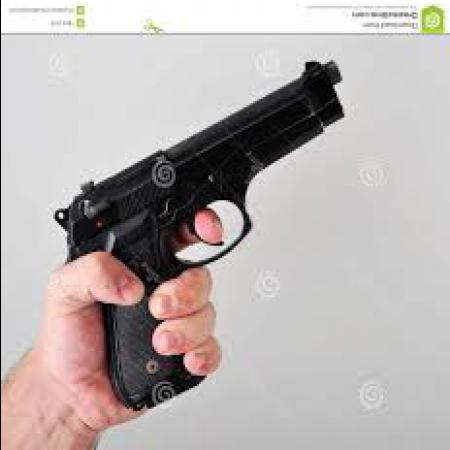Pistol: (53, 62, 346, 417)
